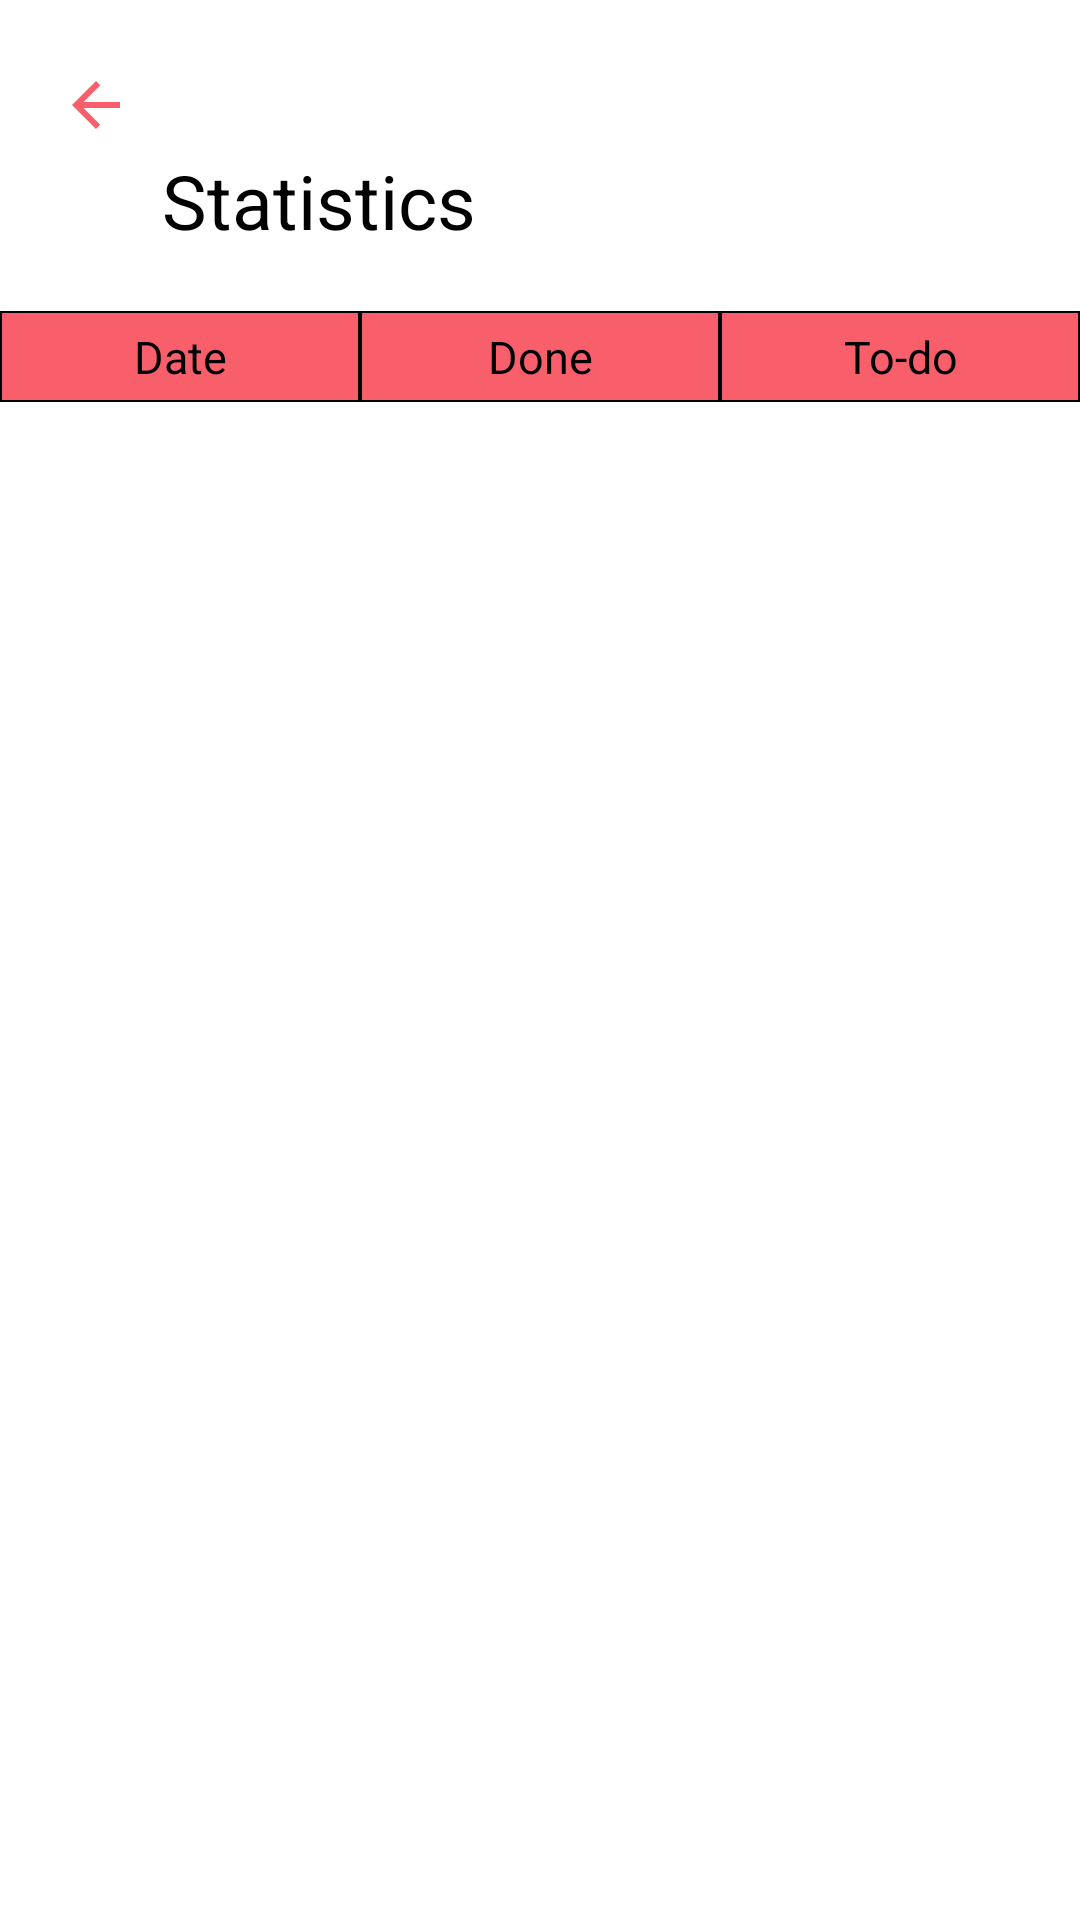

Icon bounding boxes for this 1080×1920 phone screenshot, format (x1, y1, x2, y2):
back: (72, 81, 120, 129)
